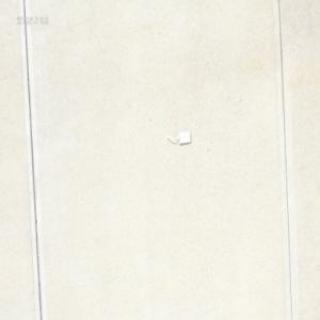LuggageTagtrack_idkeyframe: (164, 128, 190, 146)
